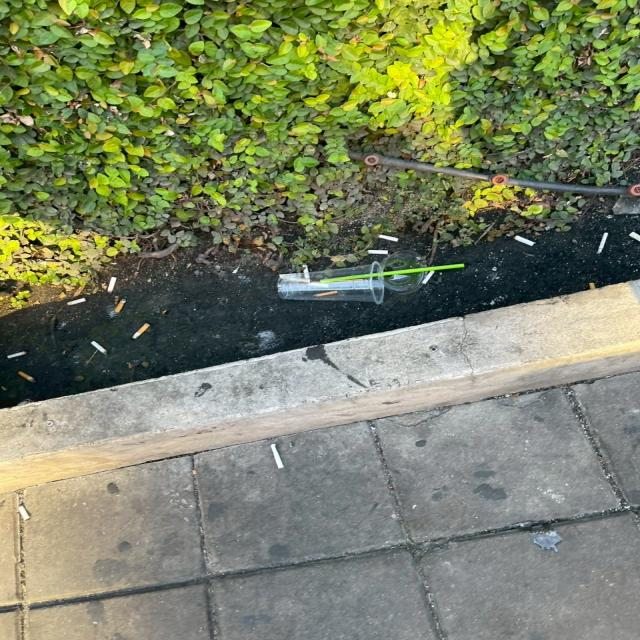plastic cup: (270, 261, 397, 306)
